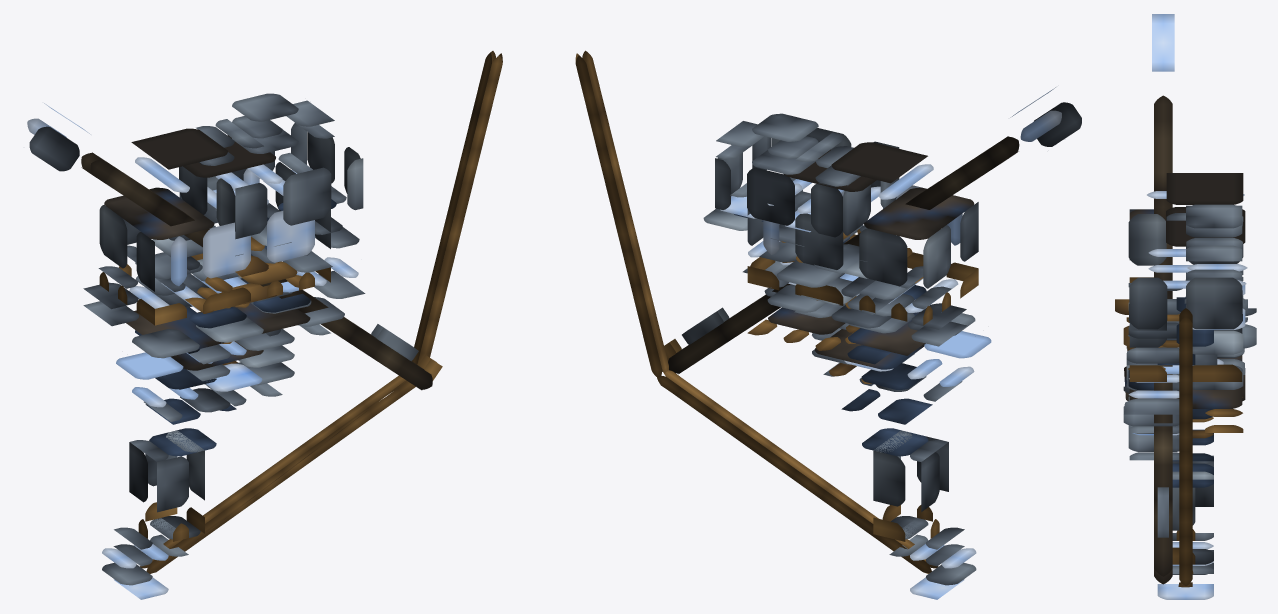
File: thunderhead_bow_pulling_2.obj
The picture shows the model from 3 angles, left to right: view 1: azimuth 30°, elevation 25°; view 2: azimuth 150°, elevation 25°; view 3: azimuth 270°, elevation 25°; orthographic projection.
Visible parts, largest first — view 1: lit, fire; view 2: lit, fire; view 3: lit, fire.
Boxes of the visible parts, box(x1,y1,x2,y2) form: lit: box(27, 93, 432, 599); fire: box(140, 51, 502, 573); lit: box(668, 87, 1081, 599); fire: box(575, 50, 938, 573); lit: box(1115, 14, 1256, 599); fire: box(1157, 308, 1193, 587).
Size of the model in its own units: 0.9946 by 0.962 by 0.2474.
